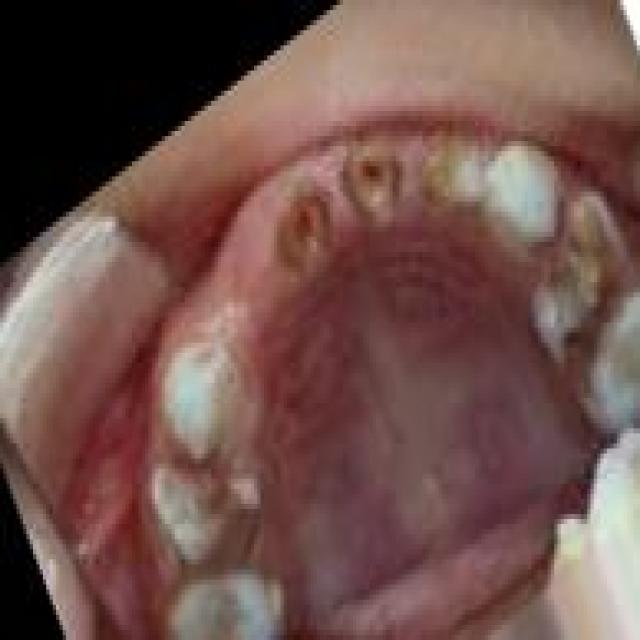caries: (526, 190, 625, 368), (413, 127, 494, 231), (264, 178, 337, 285), (336, 137, 408, 243)
